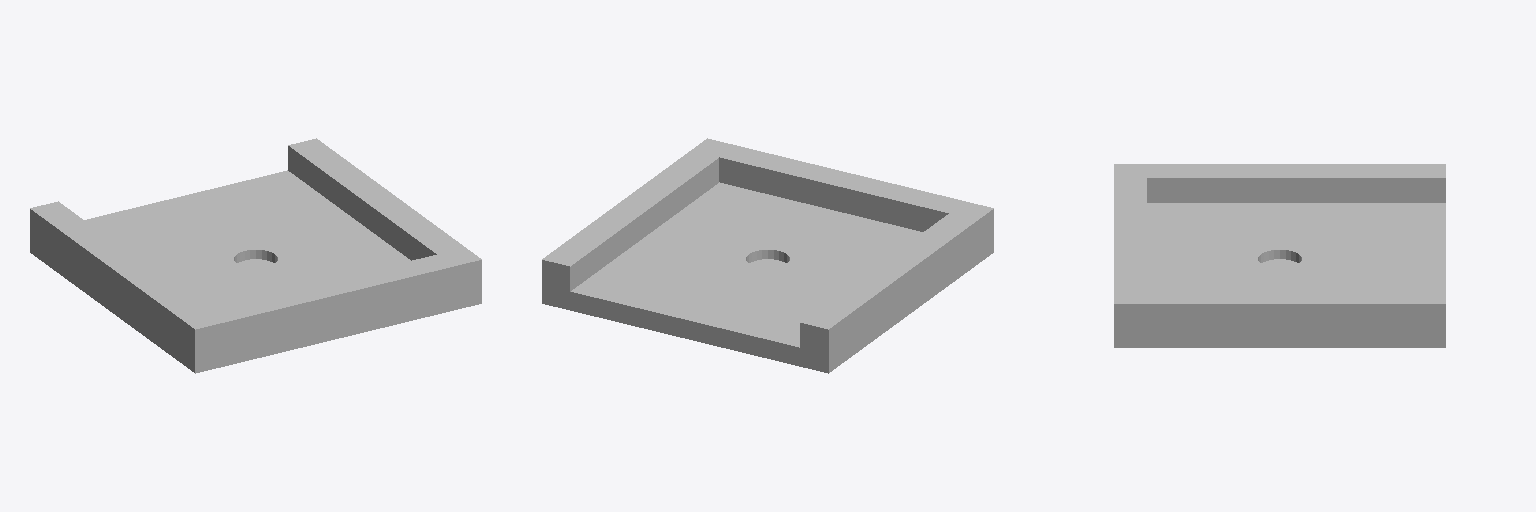
The model's file is holeSquare.obj.
3 views of the same model, side by side, from view 1: azimuth 30°, elevation 25°; view 2: azimuth 150°, elevation 25°; view 3: azimuth 270°, elevation 25° (orthographic).
Visible parts, largest first — view 1: holeSquare; view 2: holeSquare; view 3: holeSquare.
Part boxes in pixels (x1,y1,x2,y2): holeSquare: (30, 138, 481, 373); holeSquare: (542, 138, 993, 373); holeSquare: (1114, 164, 1445, 347).
Bounding box in the file's own units: 0.9999 × 0.1467 × 0.9999.